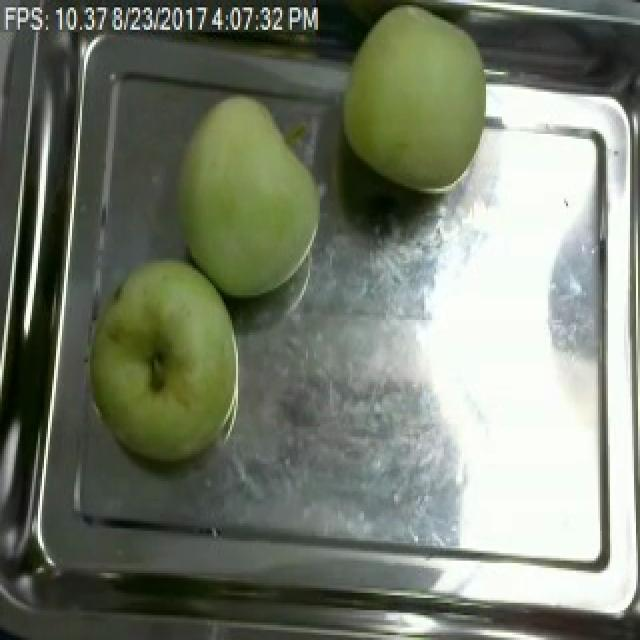50-_ripeness: (79, 251, 273, 495), (162, 87, 342, 307), (334, 0, 516, 191)
